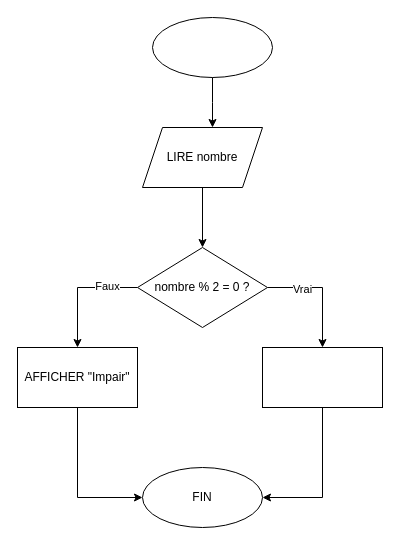
Some shapes in this 400 by 545 pixel diagram are drawn without their labels. The shapes that lost their labels are listed below. From the top down, each one's box as (x1, y1, x2, y2) in pixels, then its label:
(152, 16, 272, 78): DÉBUT
(262, 346, 382, 408): AFFICHER "Pair"
